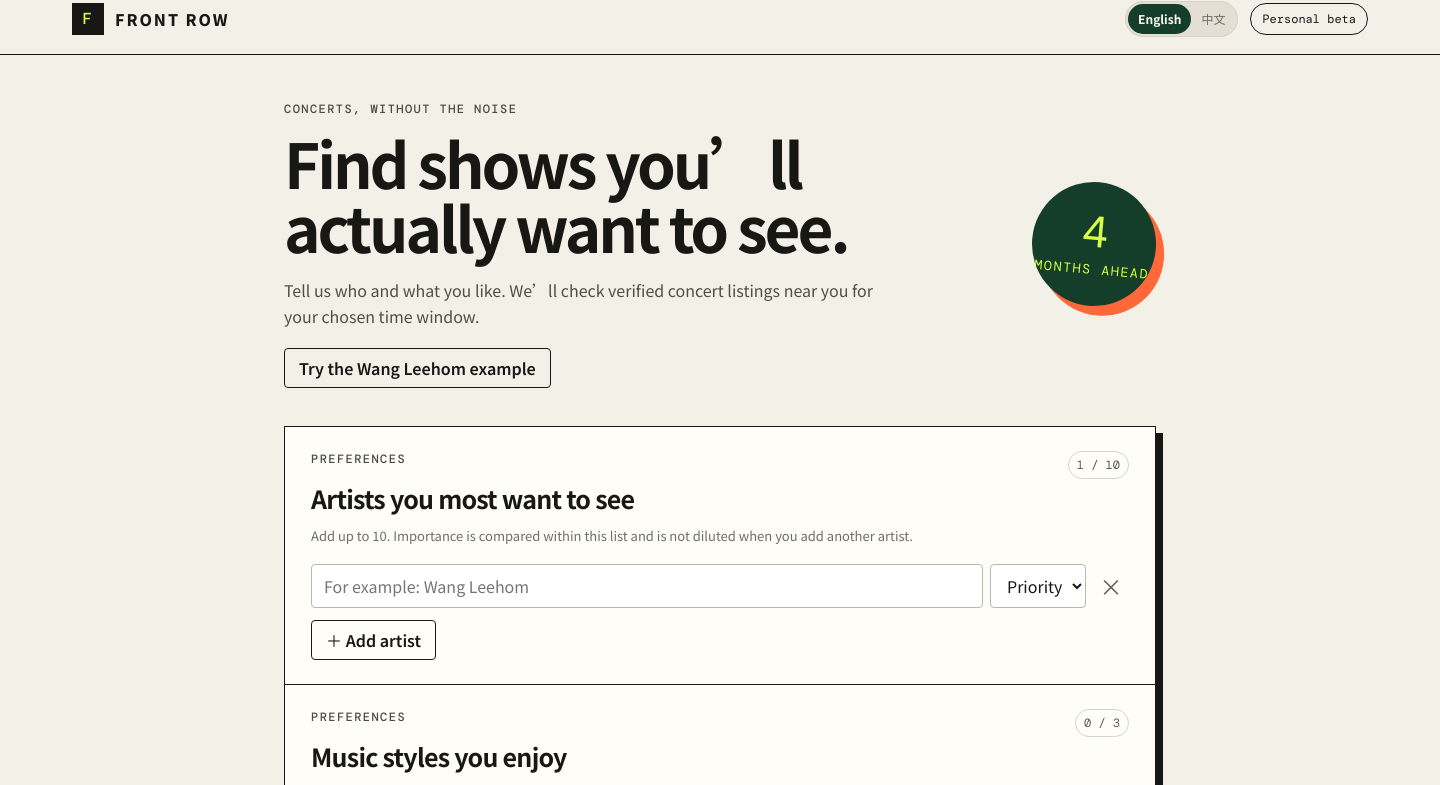
Scenario: simple preference form › labels a nearby fallback clearly and does not show a misleading recommendation score
Click the button "Try the Wang Leehom example" at x=417, y=368, box [284,348,551,388]
(page scrolled)
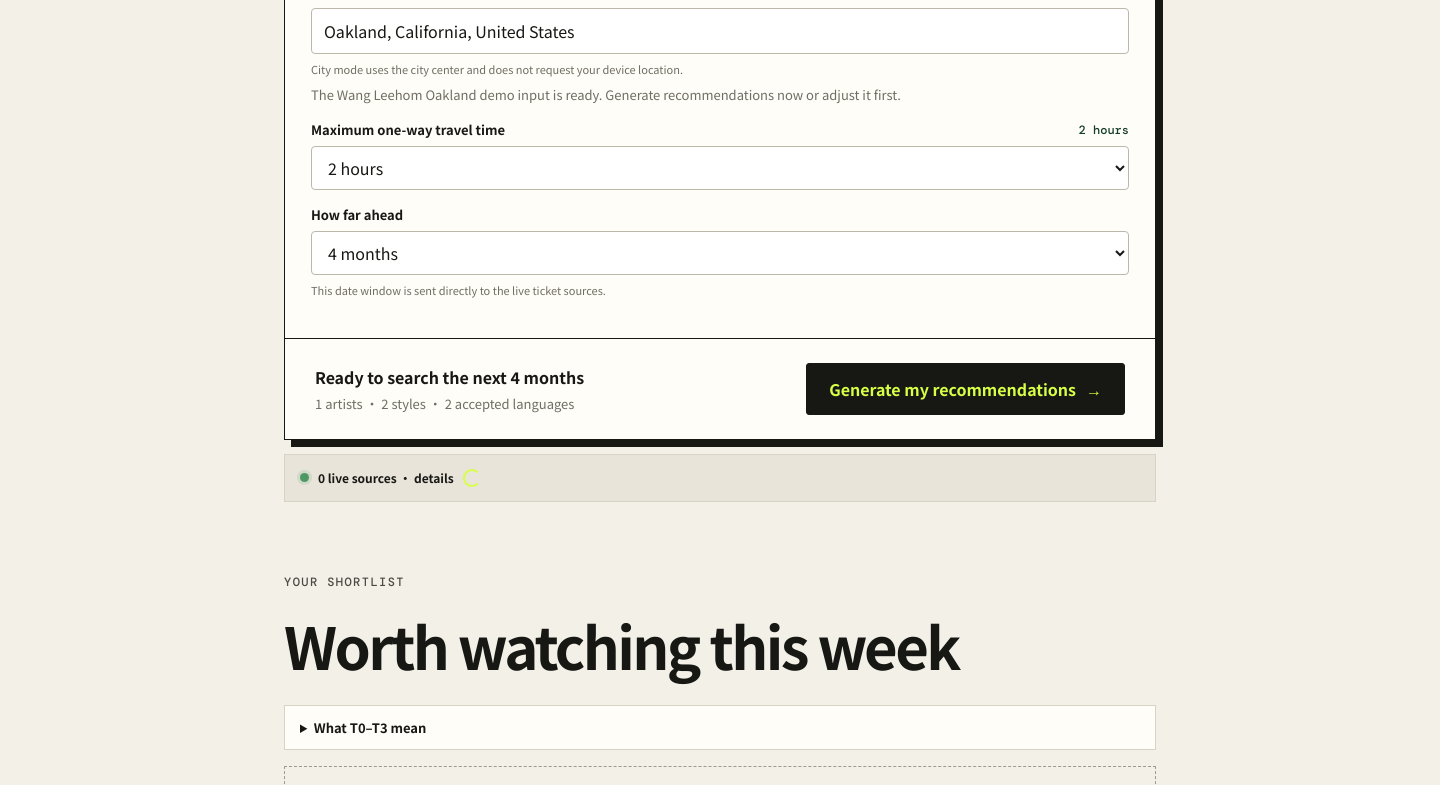
Click the button "Generate my recommendations →" at x=966, y=389, box [806,363,1125,415]
(page scrolled)
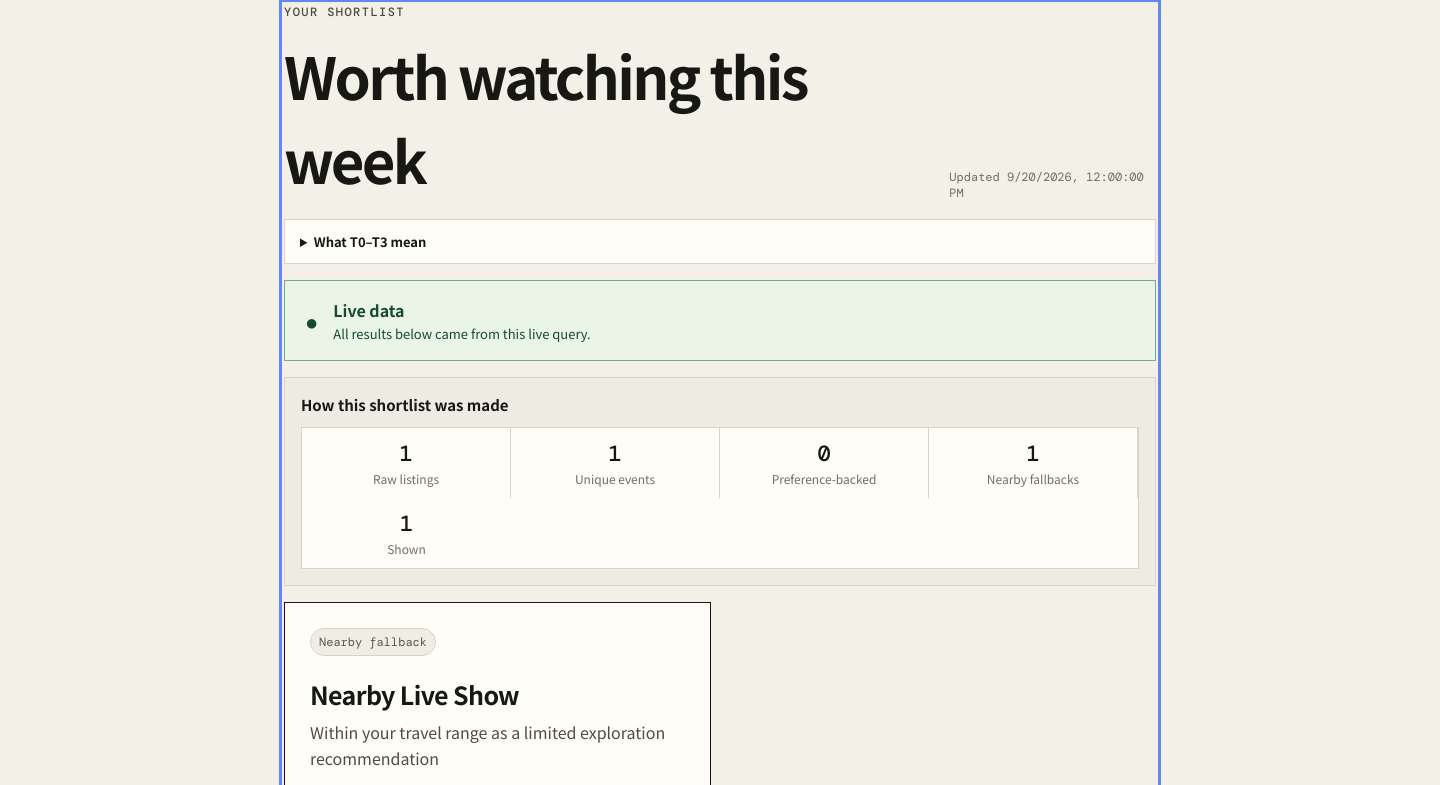
Now the text "Nearby fallback" is shown, box [310,628,436,656]
Now the text "Nearby fallbacks" is shown, box [987,470,1079,487]
